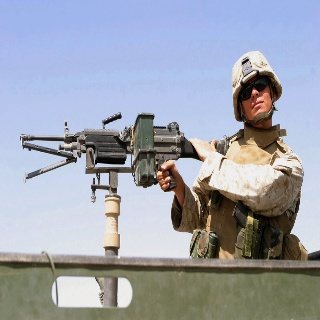rifle: (21, 110, 216, 193)
